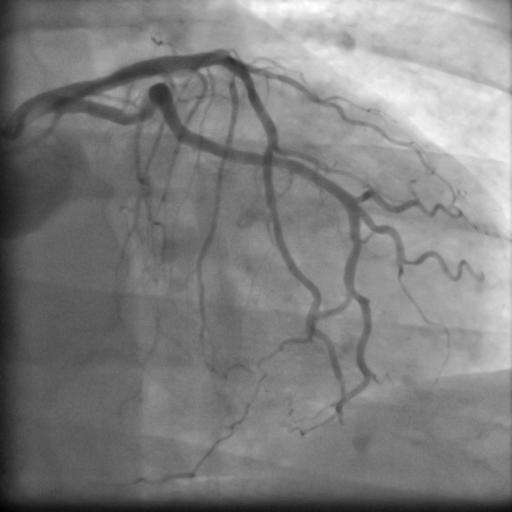Stenosis: (123, 108, 140, 126)
